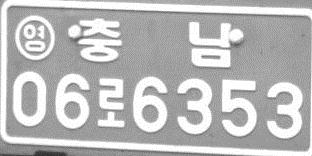0: (11, 69, 47, 127)
3: (175, 77, 213, 135), (266, 81, 303, 139)
5: (220, 78, 258, 137)
6: (54, 72, 90, 130), (132, 75, 168, 133)
로: (96, 77, 126, 128)
영: (14, 14, 56, 60)
충남_D: (77, 18, 233, 67)
